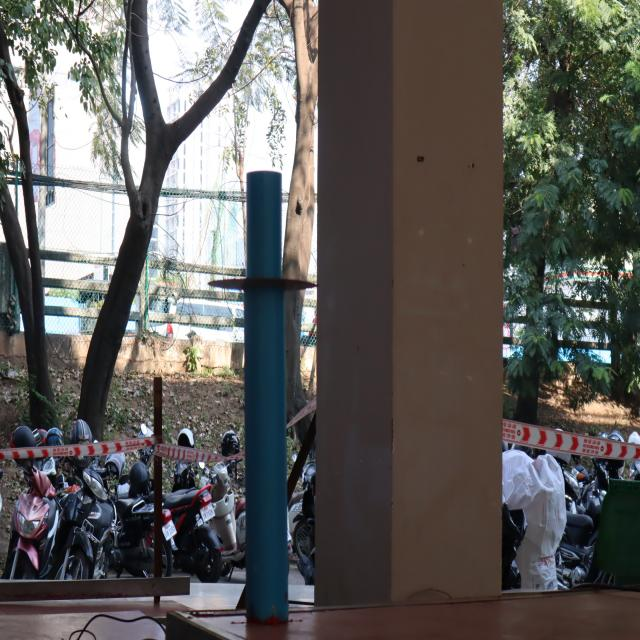pole: (207, 166, 317, 398)
